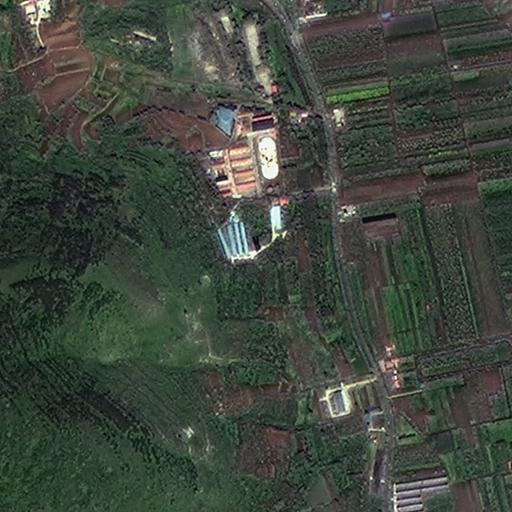school: (207, 105, 289, 197)
